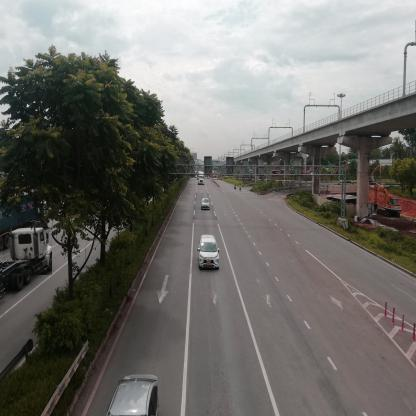car: (111, 376, 159, 416), (200, 235, 220, 271), (202, 200, 211, 212)
container: (3, 229, 53, 276), (199, 173, 206, 186)
motorbike: (234, 187, 237, 190), (241, 187, 242, 193)
